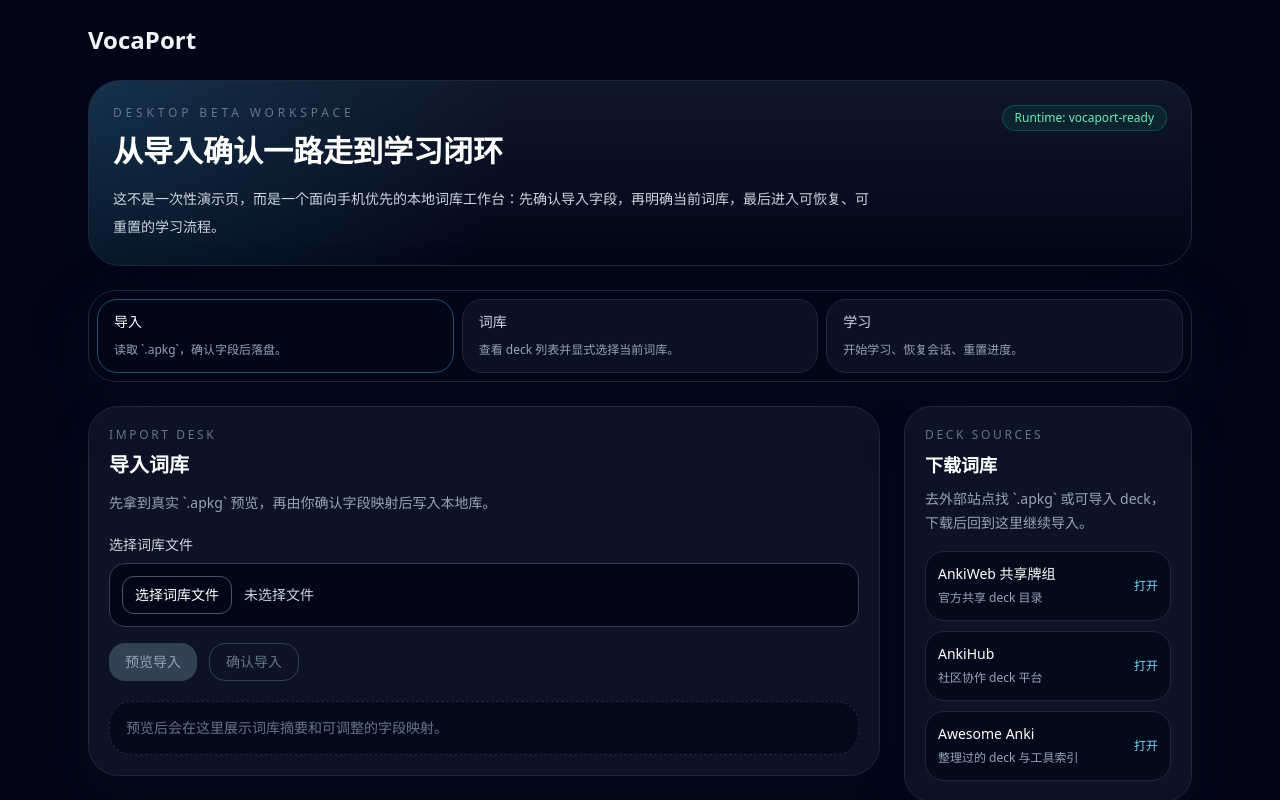
it: desktop app usability › uses the native desktop picker and path-based preview for large apkg files
Click the button "选择词库文件" at (177, 595), box [122,576,232,614]
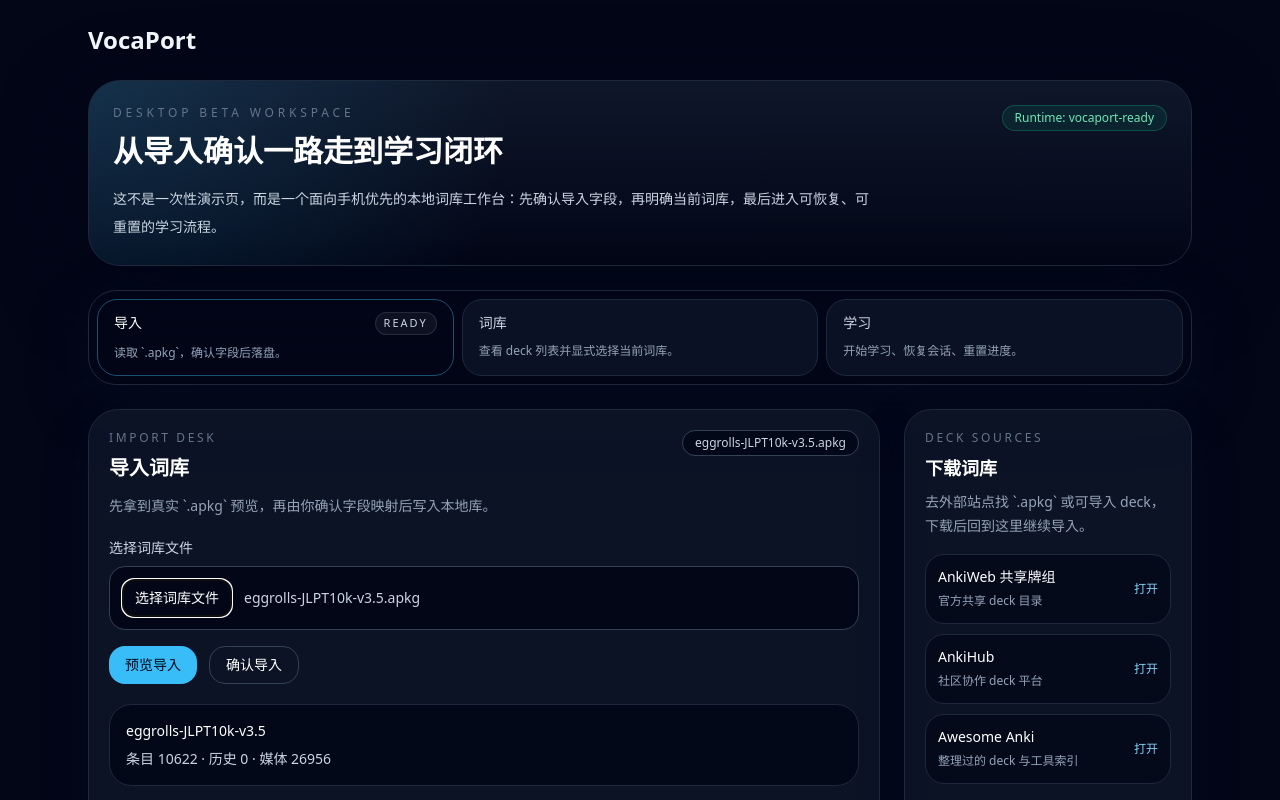
Check: the text "eggrolls-JLPT10k-v3.5" is shown, box [126,720,266,740]
Check: the button "确认导入" is enabled, box [209,646,299,684]
